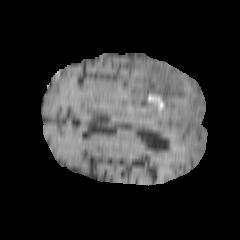glioma: (114, 58, 186, 125)
